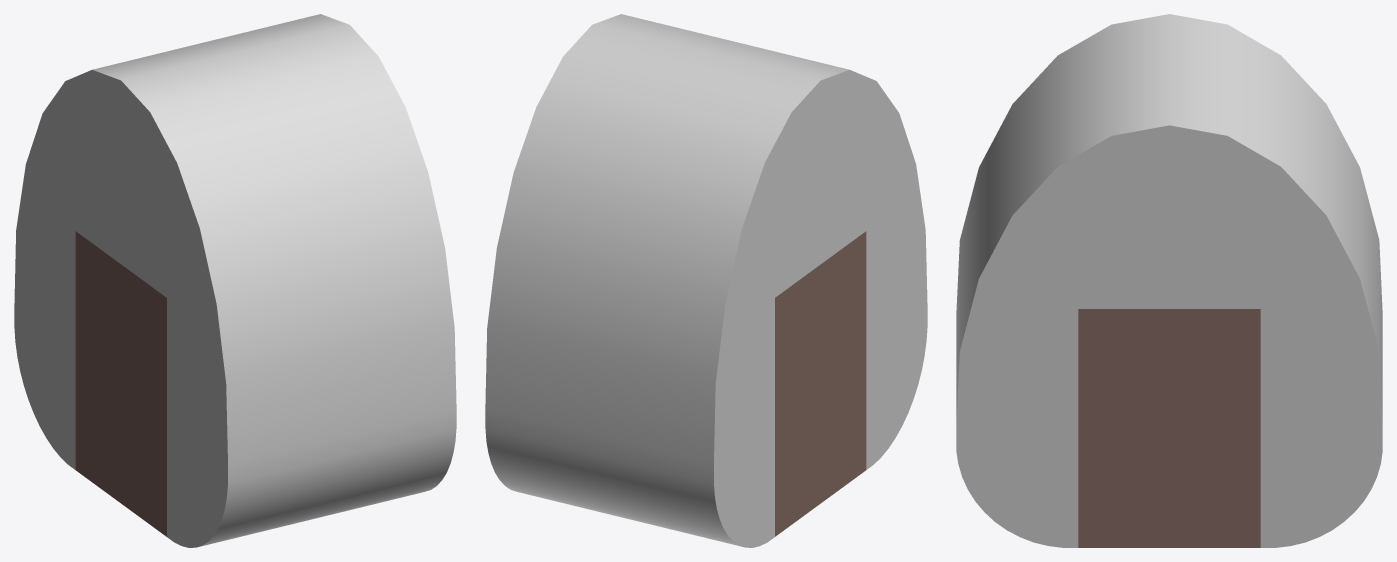
File: rice-ball.glb
The picture shows the model from 3 angles, left to right: view 1: azimuth 30°, elevation 25°; view 2: azimuth 150°, elevation 25°; view 3: azimuth 270°, elevation 25°; orthographic projection.
Parts seen in each view (by area): view 1: riceBall; view 2: riceBall; view 3: riceBall.
Part boxes in pixels (x1=…): riceBall: x1=14, y1=14, x2=456, y2=547; riceBall: x1=485, y1=14, x2=927, y2=547; riceBall: x1=956, y1=14, x2=1382, y2=547.
Size of the model in its own units: 0.0712 by 0.1259 by 0.1152.
